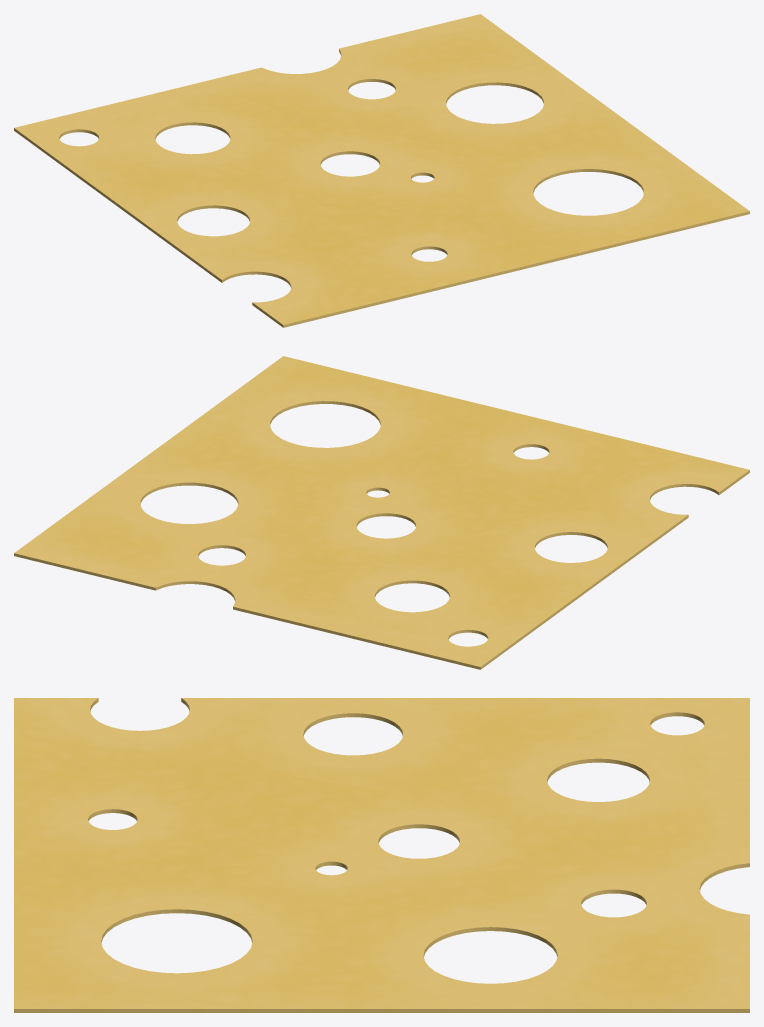
File: Cheese.fbx
The picture shows the model from 3 angles, top to bottom: view 1: azimuth 30°, elevation 25°; view 2: azimuth 150°, elevation 25°; view 3: azimuth 270°, elevation 25°; orthographic projection. The views are drawn at different scales.
Visible parts, largest first — view 1: Cheese; view 2: Cheese; view 3: Cheese.
Boxes of the visible parts, bbox=[...] form: Cheese: bbox=[14, 14, 749, 327]; Cheese: bbox=[14, 356, 749, 669]; Cheese: bbox=[14, 698, 749, 1012].
Size of the model in its own units: 401 by 2.34 by 401.
Materials: 1 (1 with a texture image).
